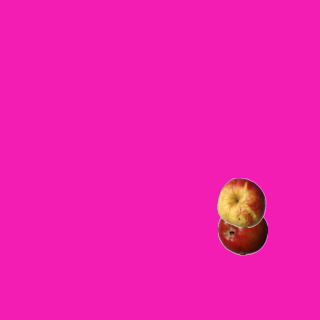Apple Braeburn: (217, 205, 267, 255)
Apple Red Yellow 1: (216, 177, 266, 227)
